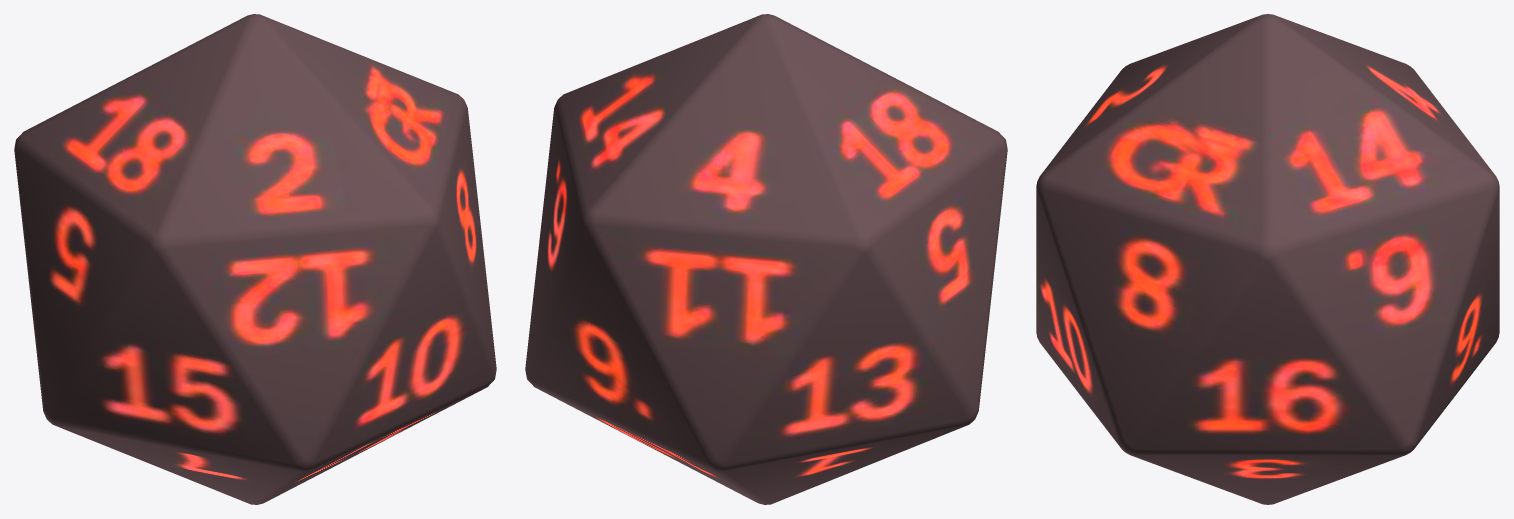
3 renders of one model, left to right at view 1: azimuth 30°, elevation 25°; view 2: azimuth 150°, elevation 25°; view 3: azimuth 270°, elevation 25°, orthographic.
Visible parts, largest first — view 1: 20Yellow; view 2: 20Yellow; view 3: 20Yellow.
Part boxes in pixels (<box>): 20Yellow: <box>14,14,496,504</box>; 20Yellow: <box>525,14,1007,504</box>; 20Yellow: <box>1036,14,1499,504</box>.
Bounding box in the file's own units: 1.43 × 1.59 × 1.37.
1 material, 1 textured.
